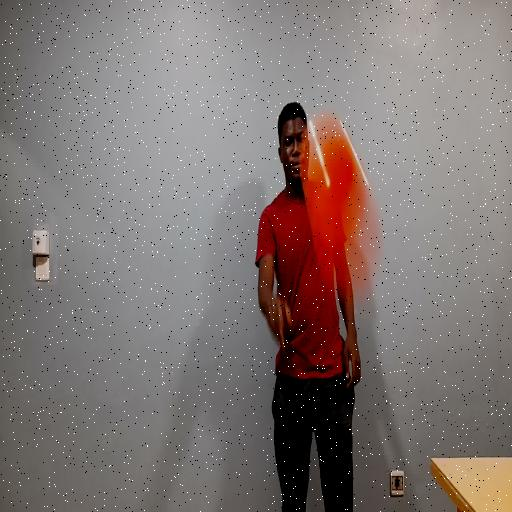plastic-ball: (291, 104, 390, 307)
